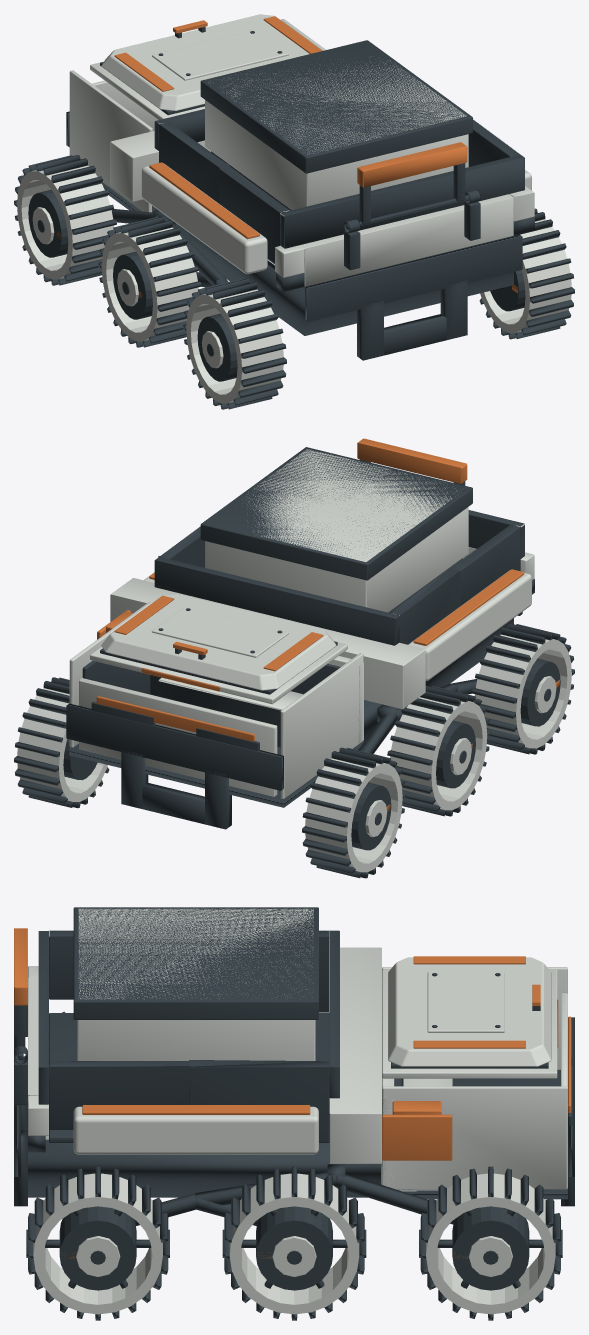
The model's file is tuoyun-hf-r1.glb.
3 views of the same model, one above another, from view 1: azimuth 30°, elevation 25°; view 2: azimuth 150°, elevation 25°; view 3: azimuth 270°, elevation 25° (orthographic). The views are drawn at different scales.
Parts seen in each view (by area): view 1: CargoBox, Body, Chassis, Wheel_LR, Wheel_LM, Wheel_LF, Wheel_RR, Formed_service_cover, Head, Deck_side_shell_-1, RearLock, Lid_inset_plate (+8 smaller); view 2: CargoBox, Body, Head, Chassis, Wheel_LF, Wheel_LR, Wheel_LM, Formed_service_cover, Wheel_RF, Deck_side_shell_-1, Lid_inset_plate, ProtectedElectronics (+9 smaller); view 3: CargoBox, Body, Head, Wheel_RR, Wheel_RF, Wheel_RM, Chassis, Formed_service_cover, Deck_side_shell_1, Lid_inset_plate, ChargeCap, HoodLid (+9 smaller).
Boxes of the visible parts, x1,y1,x2,y2 form: CargoBox: [200, 40, 472, 210]; Body: [110, 109, 534, 286]; Chassis: [66, 111, 534, 360]; Wheel_LR: [183, 279, 286, 409]; Wheel_LM: [98, 217, 201, 347]; Wheel_LF: [14, 155, 116, 285]; Wheel_RR: [479, 208, 574, 339]; Formed_service_cover: [101, 14, 319, 110]; Head: [69, 19, 325, 212]; Deck_side_shell_-1: [141, 163, 267, 274]; RearLock: [346, 142, 469, 229]; Lid_inset_plate: [152, 29, 288, 80]; CargoBox: [200, 447, 472, 614]; Body: [110, 510, 534, 709]; Head: [69, 601, 363, 798]; Chassis: [66, 579, 534, 829]; Wheel_LF: [302, 747, 405, 878]; Wheel_LR: [472, 623, 574, 754]; Wheel_LM: [387, 685, 490, 816]; Formed_service_cover: [101, 594, 336, 690]; Wheel_RF: [14, 677, 109, 808]; Deck_side_shell_-1: [408, 570, 531, 680]; Lid_inset_plate: [151, 607, 288, 657]; ProtectedElectronics: [158, 677, 302, 747]; CargoBox: [73, 907, 318, 1060]; Body: [14, 929, 381, 1163]; Head: [381, 967, 572, 1191]; Wheel_RR: [26, 1166, 169, 1320]; Wheel_RF: [419, 1166, 562, 1320]; Wheel_RM: [222, 1166, 366, 1320]; Chassis: [14, 1017, 574, 1206]; Formed_service_cover: [388, 957, 551, 1066]; Deck_side_shell_1: [73, 1106, 318, 1154]; Lid_inset_plate: [427, 972, 504, 1032]; ChargeCap: [382, 1114, 452, 1160]; HoodLid: [382, 969, 558, 1078].
Size of the model in its own units: 1.29 by 0.86 by 1.6.
